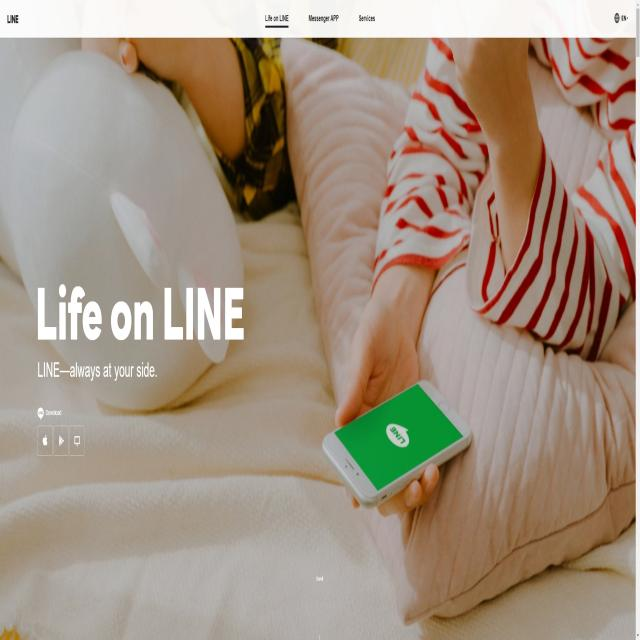menu-bar: (260, 3, 380, 32)
